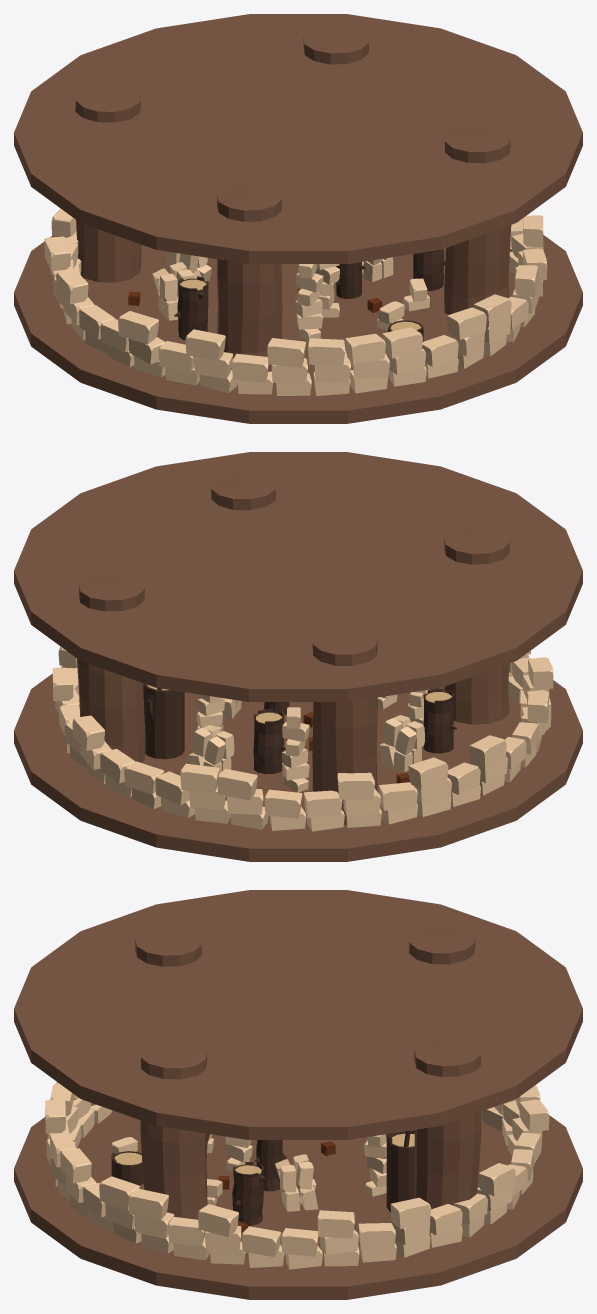
Rendered from fasePredio3.fbx.
3 views of the same model, one above another, from view 1: azimuth 30°, elevation 25°; view 2: azimuth 150°, elevation 25°; view 3: azimuth 270°, elevation 25° (orthographic).
Parts seen in each view (by area): view 1: Cylinder.006, Cylinder.005, Circle.005, Circle.002, Circle.020, Cylinder.015, Circle.022, Cylinder.013, Circle.019, Cylinder.014, Circle.023, Circle.017 (+2 smaller); view 2: Cylinder.006, Cylinder.005, Circle.005, Circle.002, Cylinder.011, Circle.022, Circle.024, Cylinder.015, Cylinder.016, Circle.025, Circle.026; view 3: Cylinder.006, Cylinder.005, Circle.005, Circle.002, Cylinder.011, Circle.018, Cylinder.013, Circle.026, Cylinder.014, Cylinder.012, Circle.019.
Boxes of the visible parts, x1,y1,x2,y2 form: Cylinder.006: (14,14,582,263); Cylinder.005: (14,235,582,423); Circle.005: (44,208,547,395); Circle.002: (75,25,511,371); Circle.020: (295,264,323,342); Cylinder.015: (174,276,208,340); Circle.022: (152,262,194,320); Cylinder.013: (413,249,445,291); Circle.019: (315,264,339,317); Cylinder.014: (336,262,365,298); Circle.023: (165,251,211,282); Circle.017: (402,278,429,311); Cylinder.006: (14,452,582,701); Cylinder.005: (14,666,582,861); Circle.005: (52,646,553,831); Circle.002: (77,471,509,824); Cylinder.011: (143,683,184,759); Circle.022: (379,715,424,772); Circle.024: (282,707,309,792); Cylinder.015: (423,688,456,753); Cylinder.016: (253,709,285,773); Circle.025: (188,725,234,773); Circle.026: (196,694,224,731); Cylinder.006: (14,890,582,1139); Cylinder.005: (14,1110,582,1299); Circle.005: (45,1082,549,1269); Circle.002: (135,926,481,1219); Cylinder.011: (386,1131,414,1212); Circle.018: (275,1154,318,1211); Cylinder.013: (232,1161,266,1225); Circle.026: (364,1134,386,1196); Cylinder.014: (254,1140,285,1191); Cylinder.012: (111,1151,143,1185); Circle.019: (225,1136,252,1171).
Bounding box in the file's own units: 10490 × 3860 × 10652.
